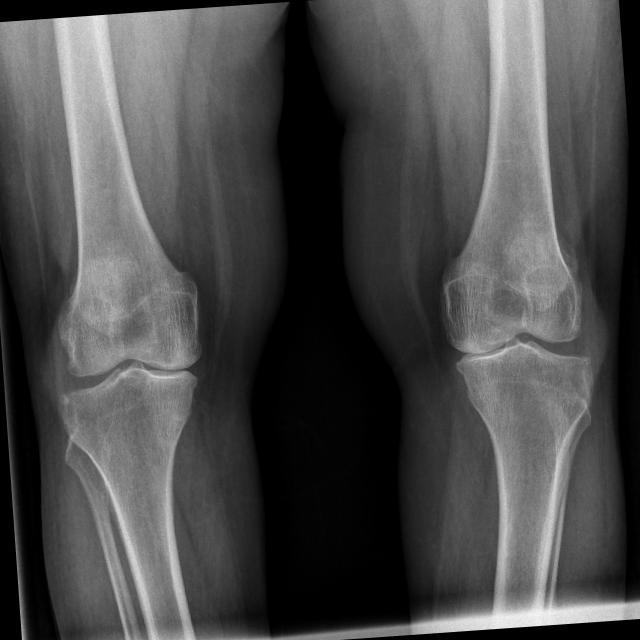Knee: (436, 268, 596, 414), (47, 304, 209, 430)
